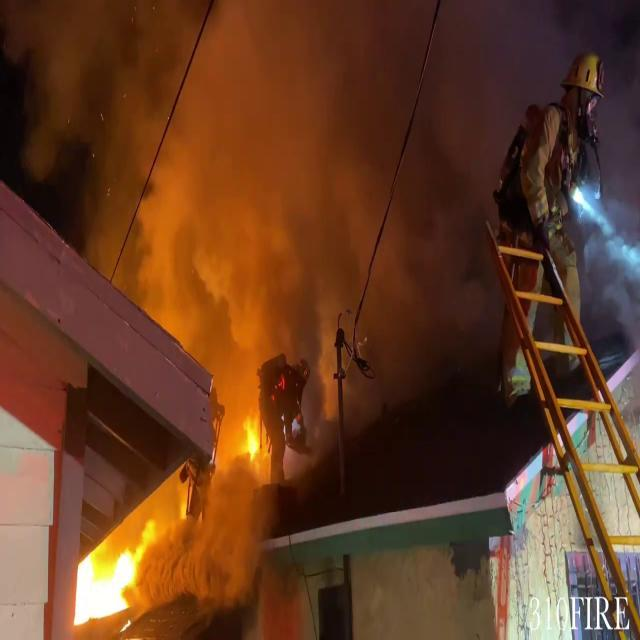Fire: (70, 520, 148, 634)
Smoke: (53, 0, 444, 363)
